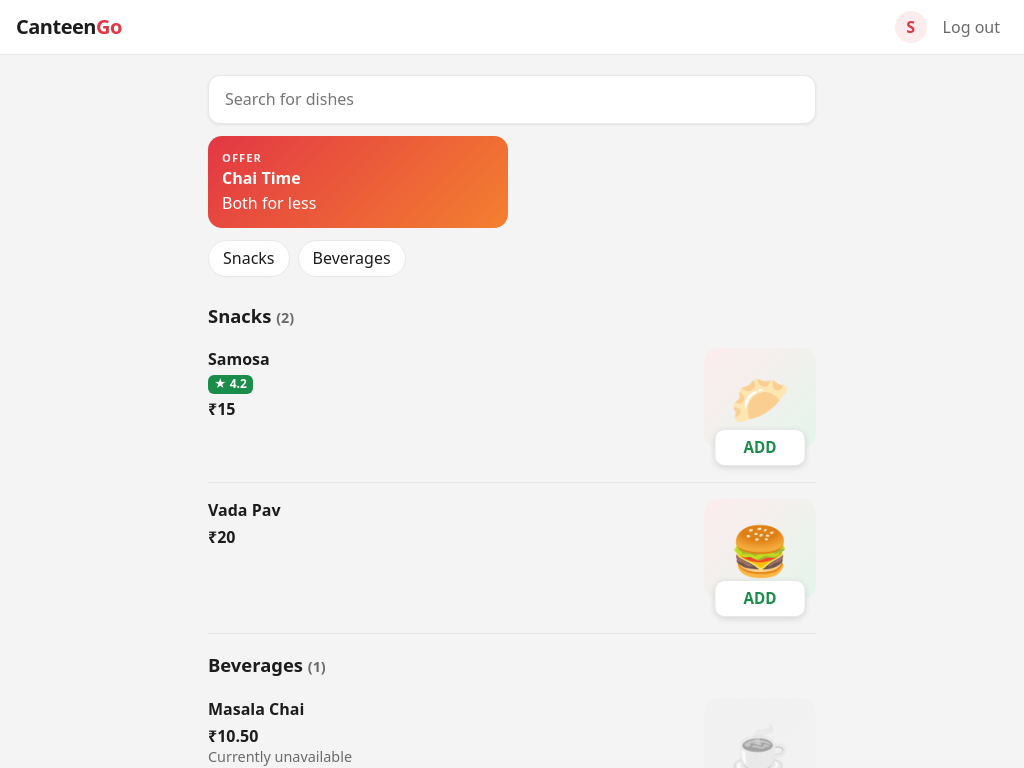
Test: plain-HTTP pages (no crypto.randomUUID) › still renders the cart page
expect the heading "Samosa" is shown: met, box [208,348,270,370]
Click the button with aria-label "add samosa" at (760, 448), box [714,429,806,466]
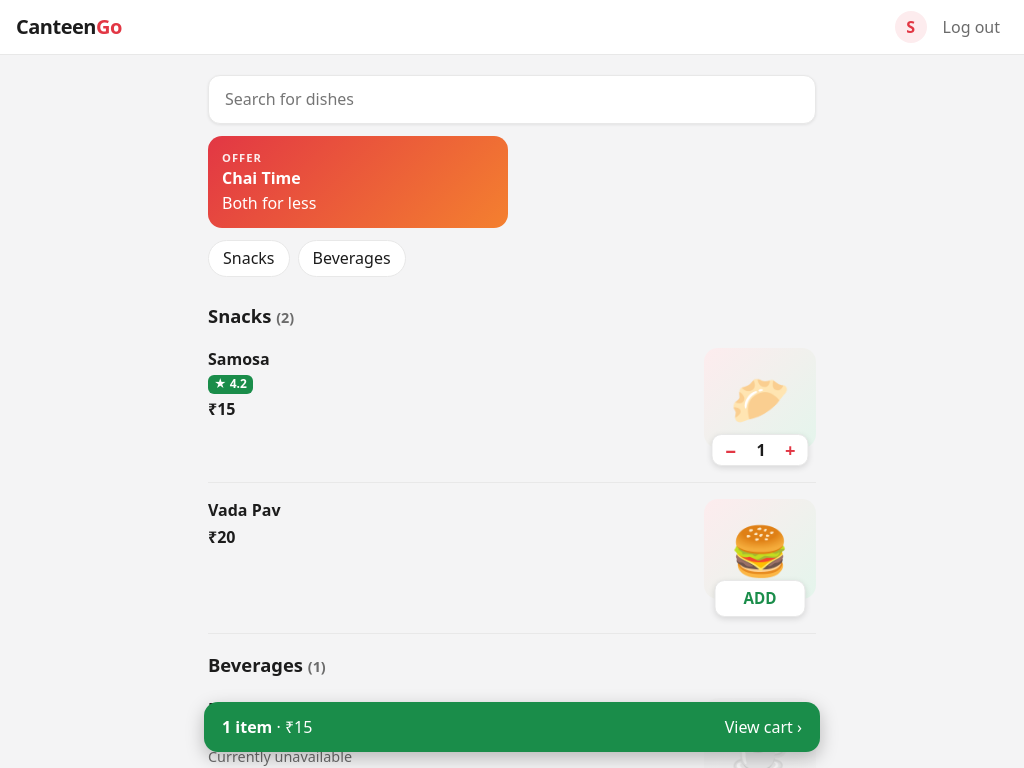
Click the text "View cart ›" at (763, 727), box [725,716,802,738]
(page scrolled)
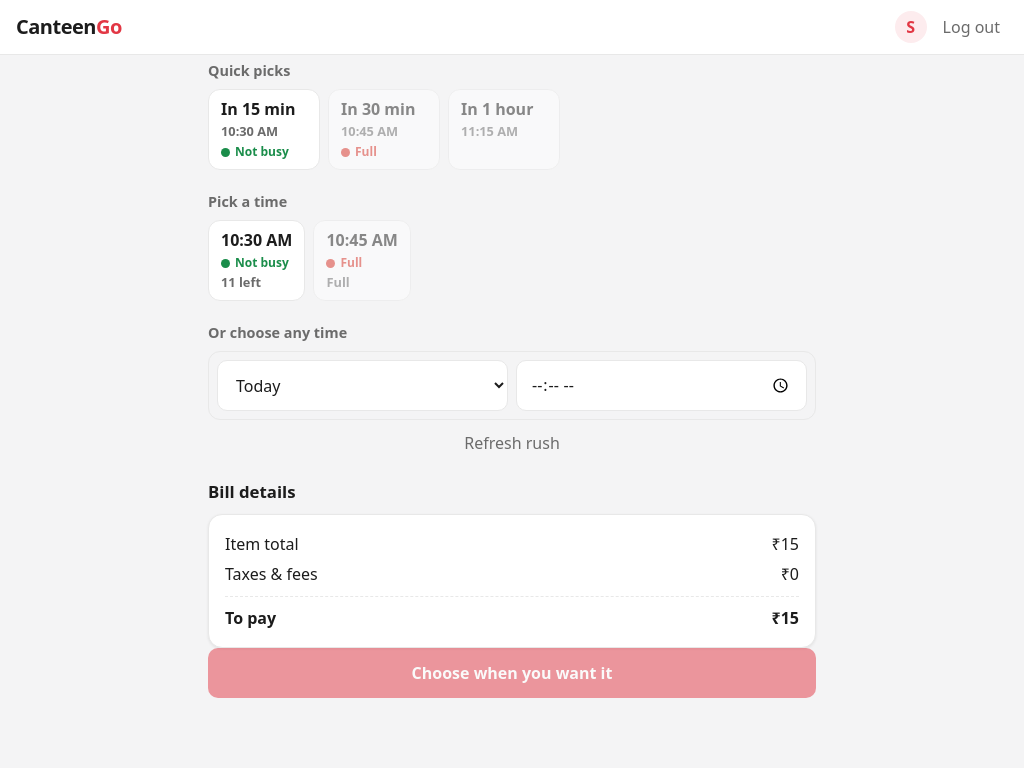
expect the heading "Bill details" is shown: met, box [208,480,296,503]
